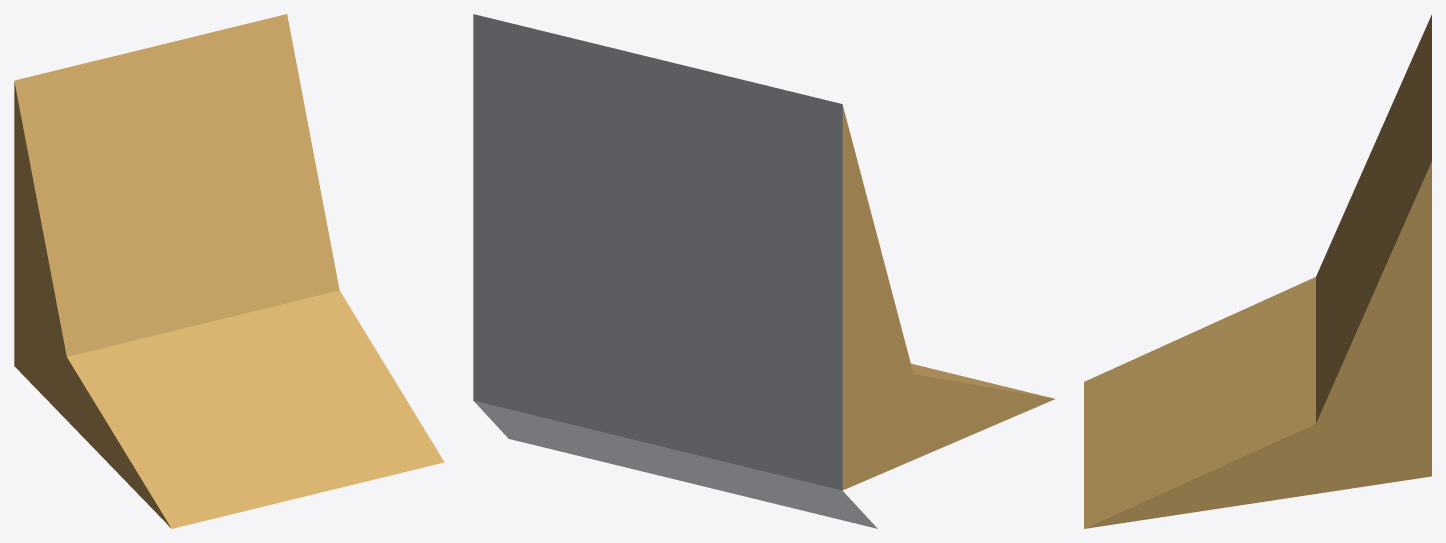
The model's file is desk_chair.lod.glb.
3 views of the same model, side by side, from view 1: azimuth 30°, elevation 25°; view 2: azimuth 150°, elevation 25°; view 3: azimuth 270°, elevation 25° (orthographic). The views are drawn at different scales.
Visible parts, largest first — view 1: desk_chair; view 2: desk_chair; view 3: desk_chair.
Part boxes in pixels (x1,y1,x2,y2): desk_chair: (14,14,444,528); desk_chair: (473,14,1054,528); desk_chair: (1084,14,1431,528).
Size of the model in its own units: 0.15 by 0.175 by 0.15.
